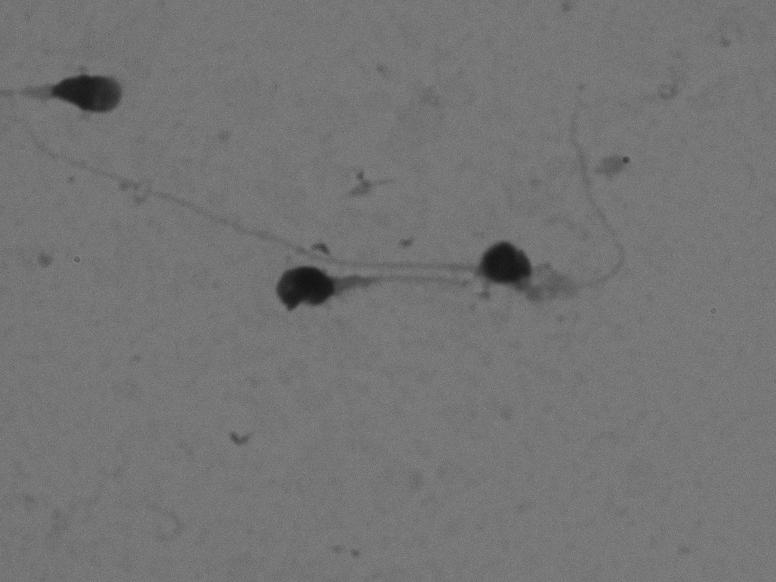Abnormal: (243, 60, 671, 338), (124, 170, 540, 307), (5, 33, 152, 176)
